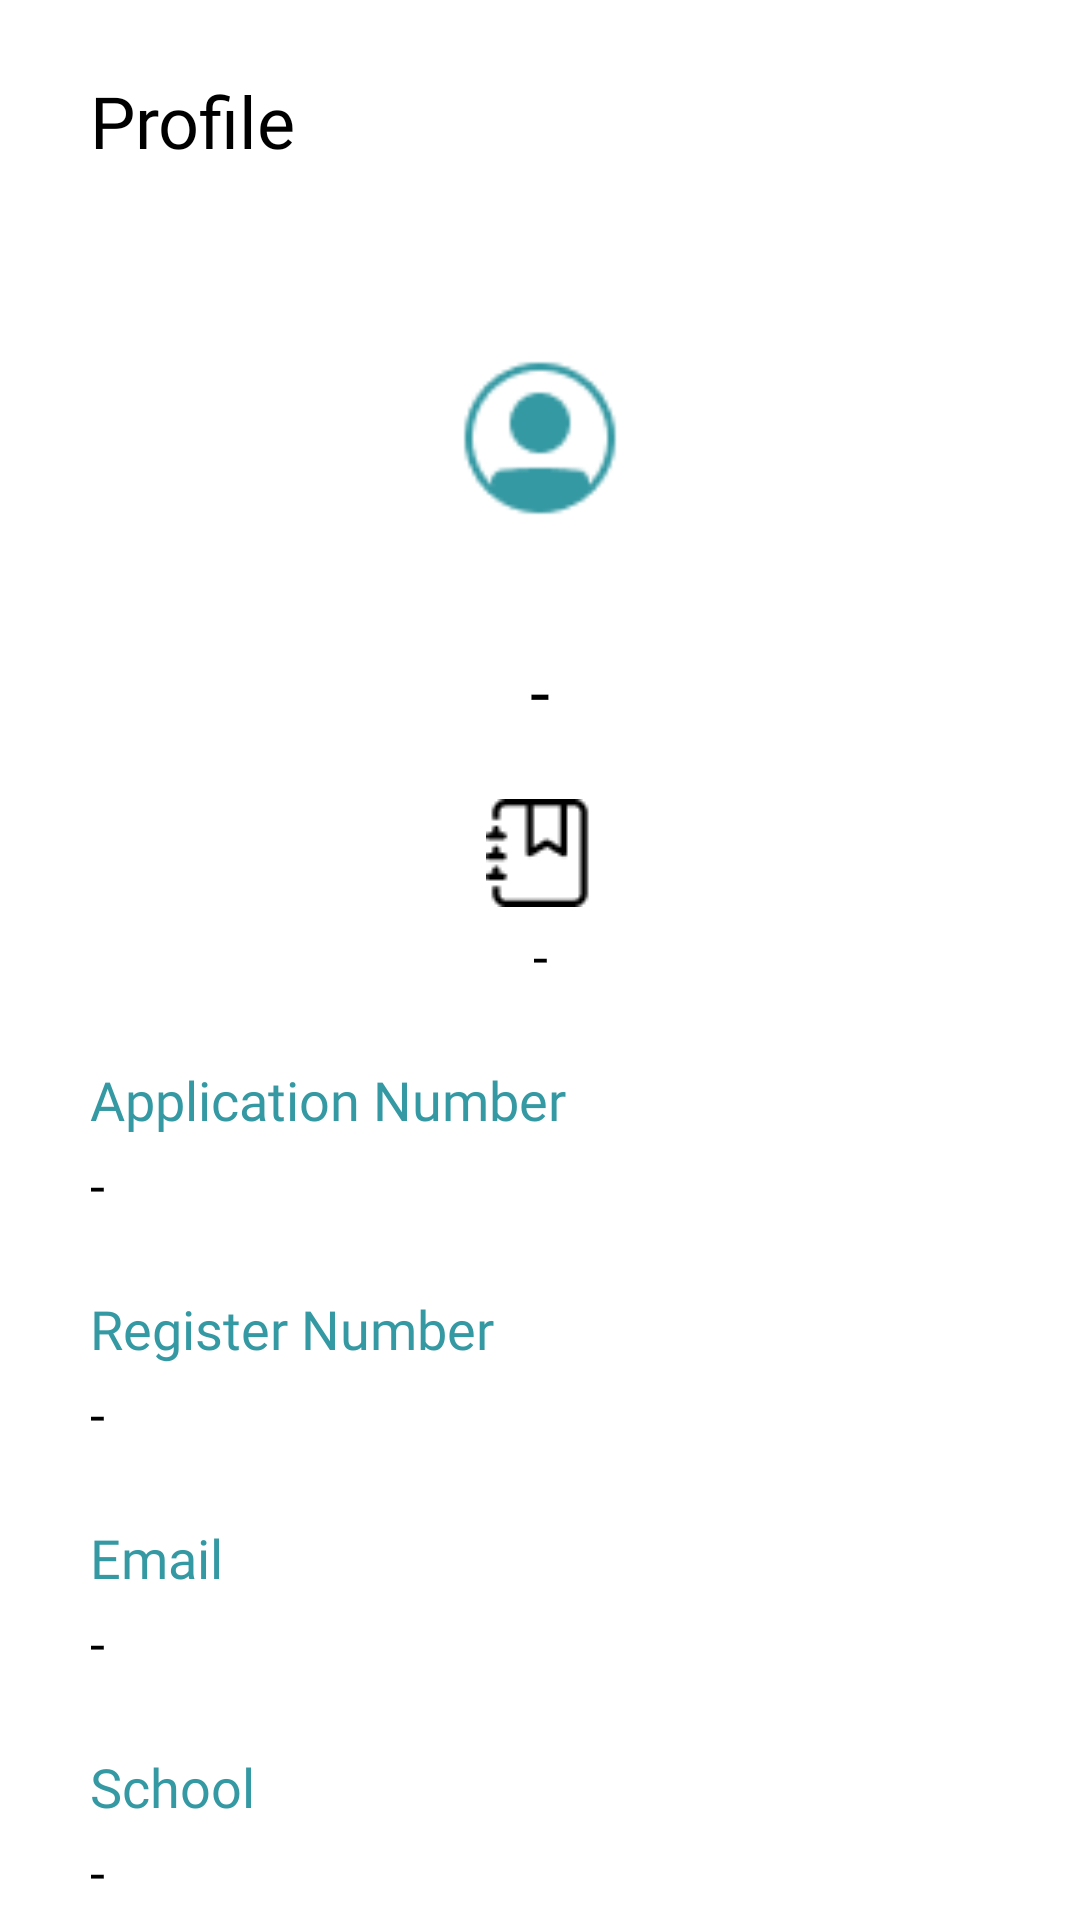

Locate icon controls on the screen. Image size 1080 x 1920, boxes as (x1, y1, x2, y2).
journal: (486, 799, 589, 907)
